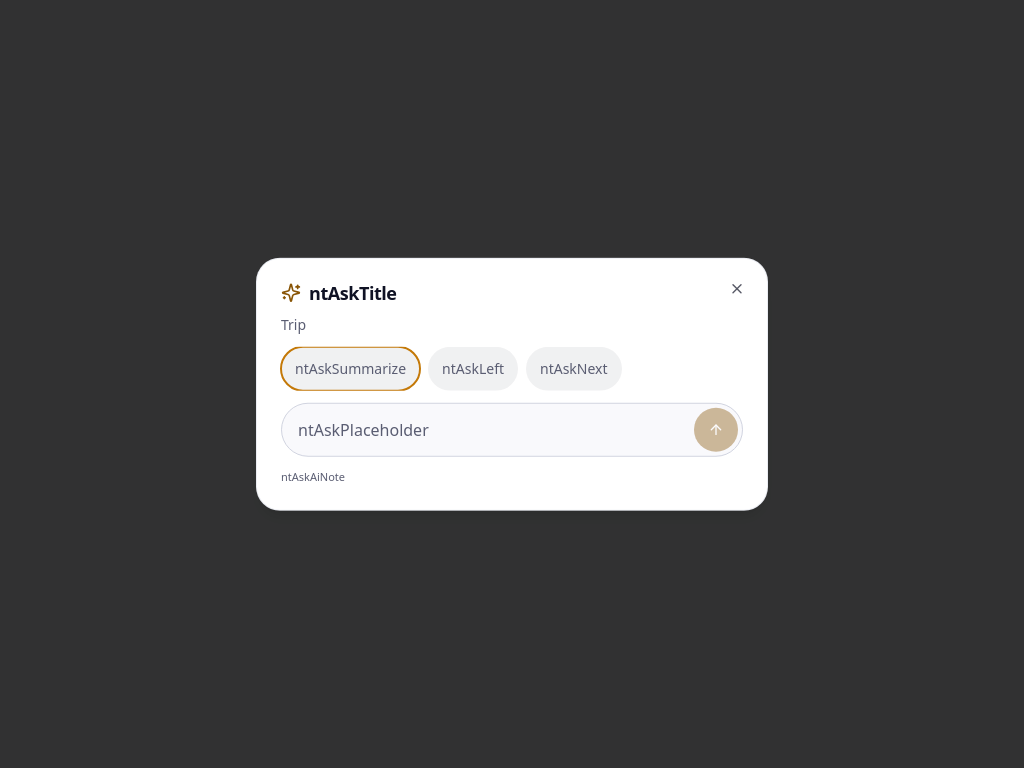
a failed question stays in the box to send again
The width and height of the screenshot is (1024, 768).
Type "When do we leave?" into the field with placeholder "ntAskPlaceholder" at (492, 430), box [298, 408, 686, 452]
Then press Enter
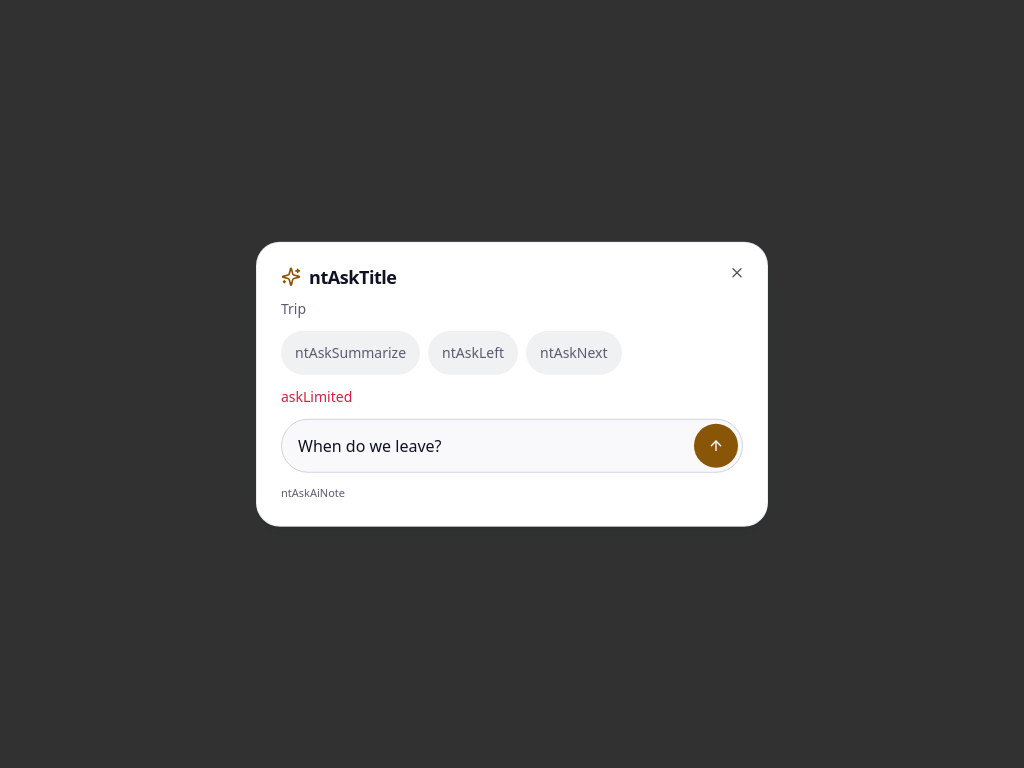
Expected: the text "askLimited" is shown, [281, 387, 352, 406]
